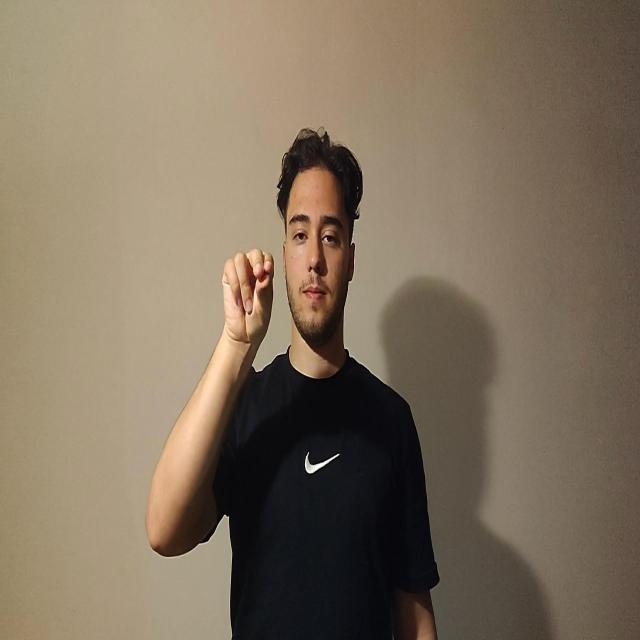no: (221, 247, 274, 347)
